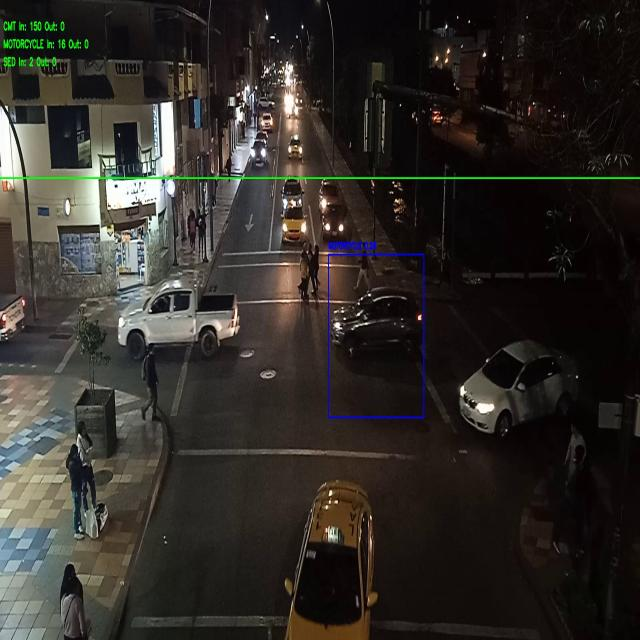CMT: (122, 285, 240, 355), (0, 286, 24, 346)
SED: (286, 484, 374, 638), (461, 342, 559, 429), (282, 208, 304, 243), (322, 207, 343, 240), (288, 137, 302, 159)
SUV: (331, 292, 420, 352), (281, 176, 303, 204), (252, 142, 266, 164), (263, 114, 274, 130)
